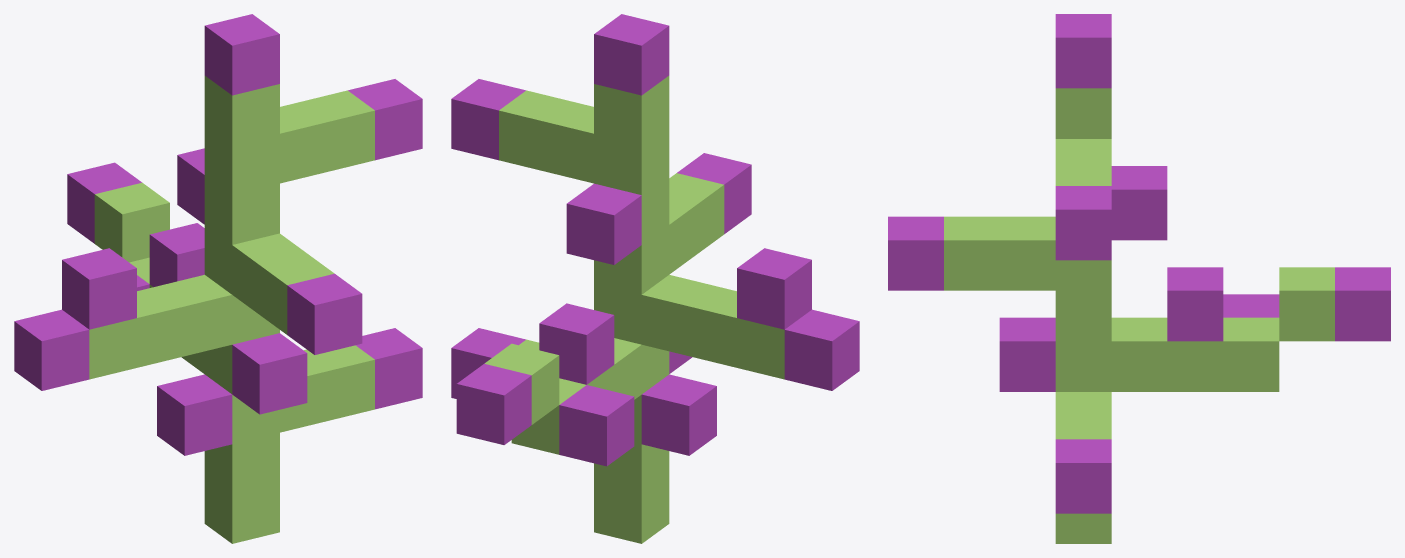
File: Medieval Assets-313-Resource - Herb - Nightshade.obj
3 renders of one model, left to right at view 1: azimuth 30°, elevation 25°; view 2: azimuth 150°, elevation 25°; view 3: azimuth 270°, elevation 25°, orthographic.
Parts seen in each view (by area): view 1: Resource - Herb - Nightshade; view 2: Resource - Herb - Nightshade; view 3: Resource - Herb - Nightshade.
Part boxes in pixels (left/top/right/bottom): Resource - Herb - Nightshade: left=14, top=14, right=422, bottom=543; Resource - Herb - Nightshade: left=451, top=14, right=859, bottom=543; Resource - Herb - Nightshade: left=888, top=14, right=1390, bottom=543.
Size of the model in its own units: 0.8 by 1 by 0.9.
1 material, 1 textured.
